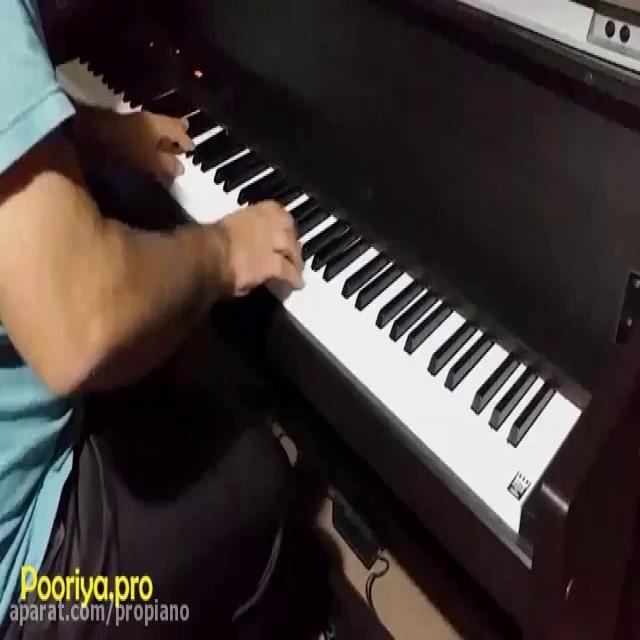Piano: (59, 22, 604, 547)
